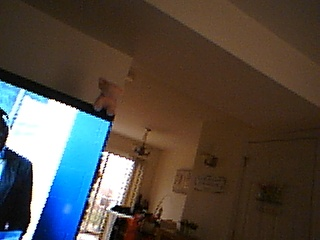piggy: (94, 76, 124, 118)
